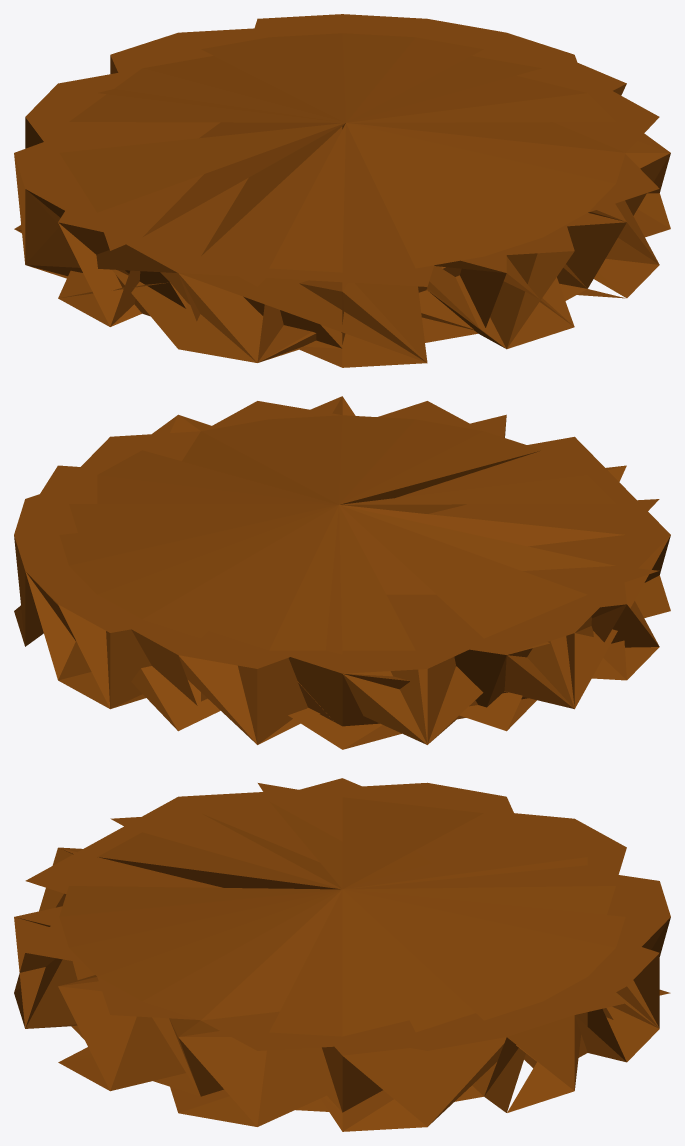
File: S.S._Dolphin_Gluon_Drive_cog_4.obj
3 views of the same model, one above another, from view 1: azimuth 30°, elevation 25°; view 2: azimuth 150°, elevation 25°; view 3: azimuth 270°, elevation 25° (orthographic).
Parts seen in each view (by area): view 1: S.S._Dolphin_Gluon_Drive_cog_4; view 2: S.S._Dolphin_Gluon_Drive_cog_4; view 3: S.S._Dolphin_Gluon_Drive_cog_4.
Part boxes in pixels (bbox=[...]): S.S._Dolphin_Gluon_Drive_cog_4: bbox=[14, 14, 670, 367]; S.S._Dolphin_Gluon_Drive_cog_4: bbox=[14, 396, 670, 749]; S.S._Dolphin_Gluon_Drive_cog_4: bbox=[14, 778, 670, 1131].
Bounding box in the file's own units: 1.37 × 0.2416 × 1.37.
